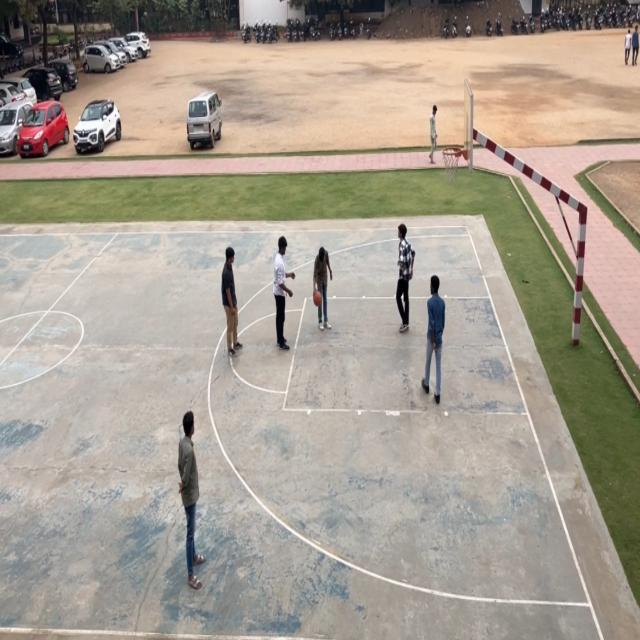basketball: (313, 284, 323, 308)
hoop: (442, 144, 462, 183)
